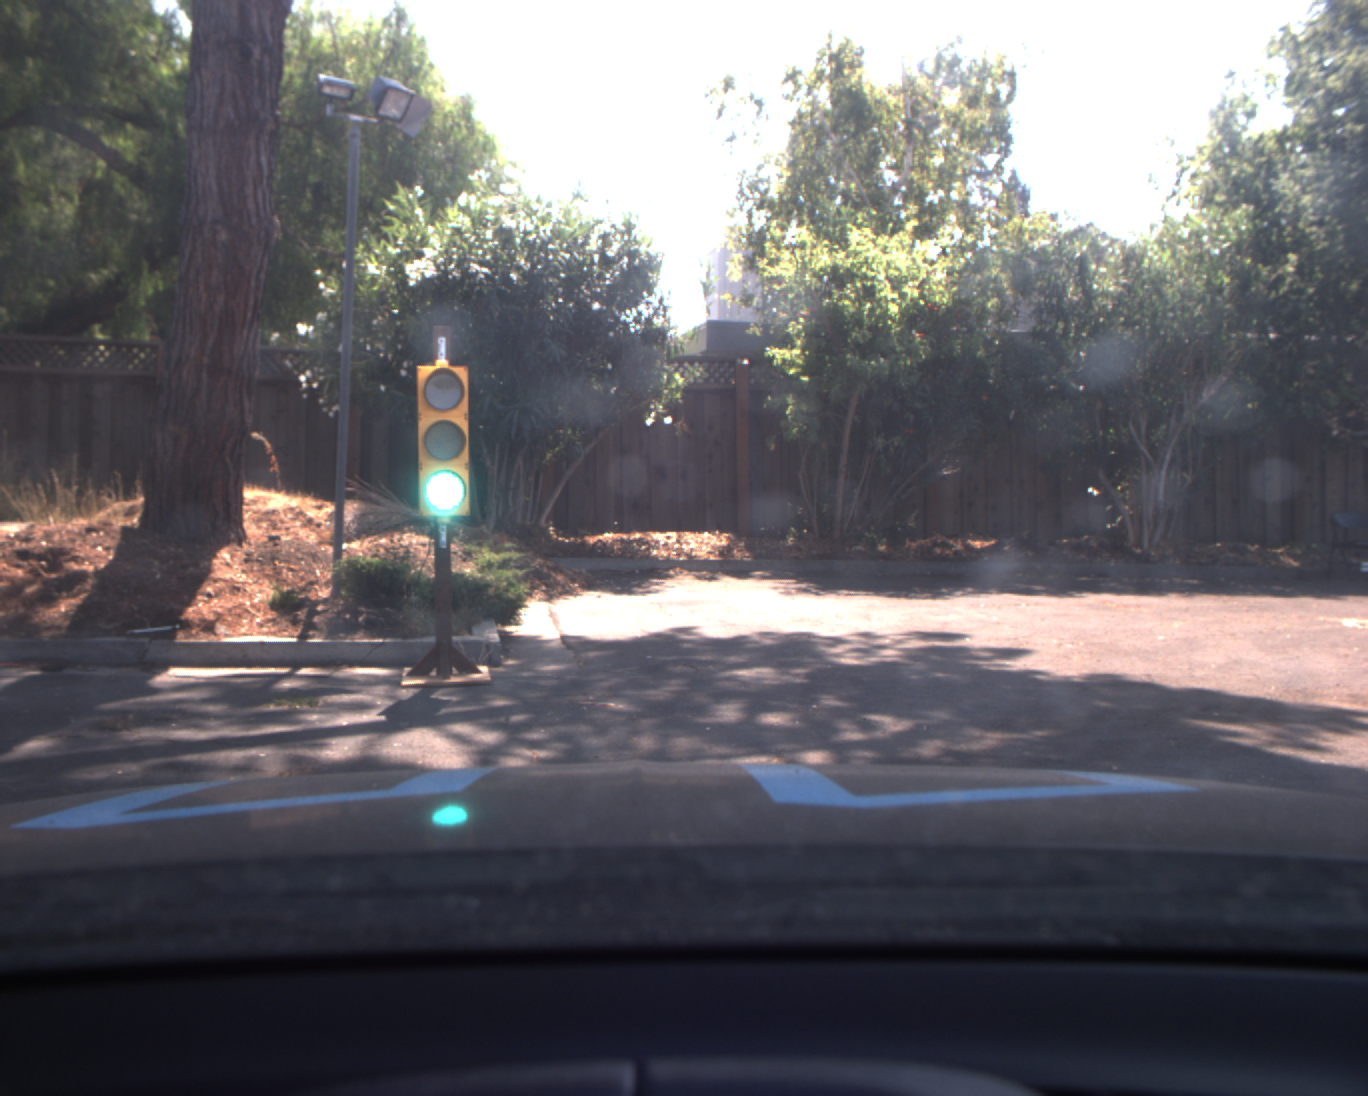green: (412, 362, 475, 521)
